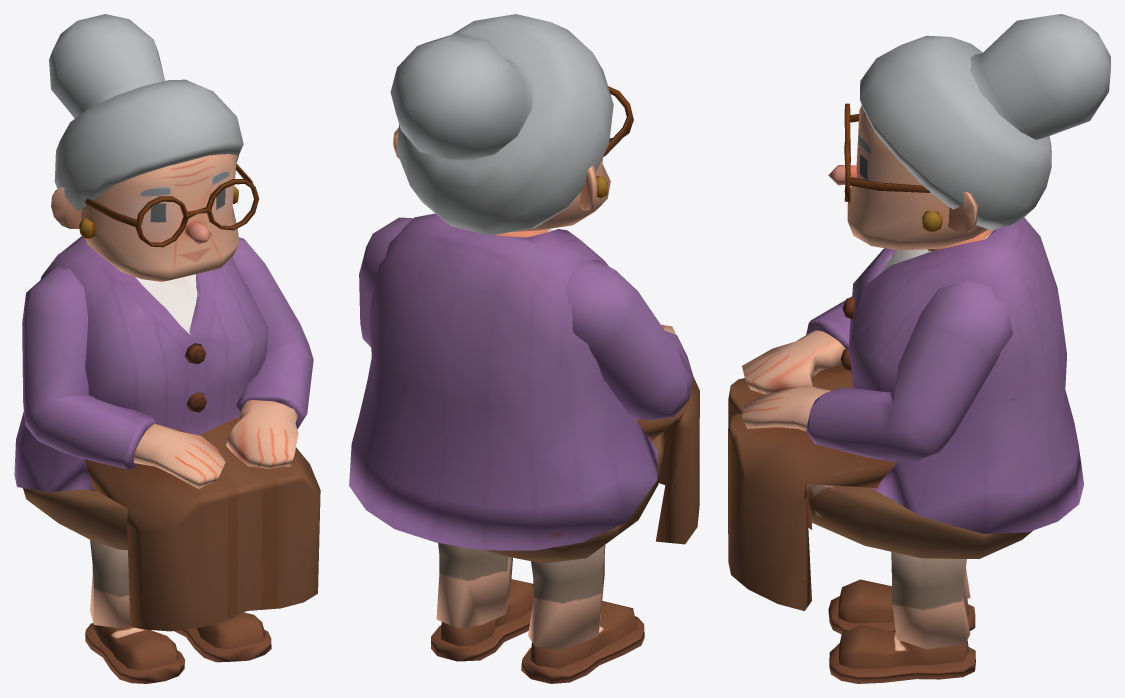
File: pax_w3.glb
The picture shows the model from 3 angles, left to right: view 1: azimuth 30°, elevation 25°; view 2: azimuth 150°, elevation 25°; view 3: azimuth 270°, elevation 25°; orthographic projection. The views are drawn at different scales.
Parts seen in each view (by area): view 1: geometry_0; view 2: geometry_0; view 3: geometry_0.
Boxes of the visible parts, x1,y1,x2,y2 form: geometry_0: (14, 14, 320, 683); geometry_0: (349, 14, 699, 683); geometry_0: (728, 14, 1110, 683).
Size of the model in its own units: 0.5155 by 1 by 0.5573.
1 material, 1 textured.
